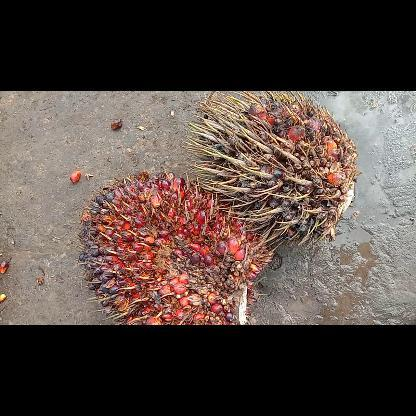TBS abnormal: (184, 91, 362, 243)
TBS masak: (77, 172, 273, 324)
